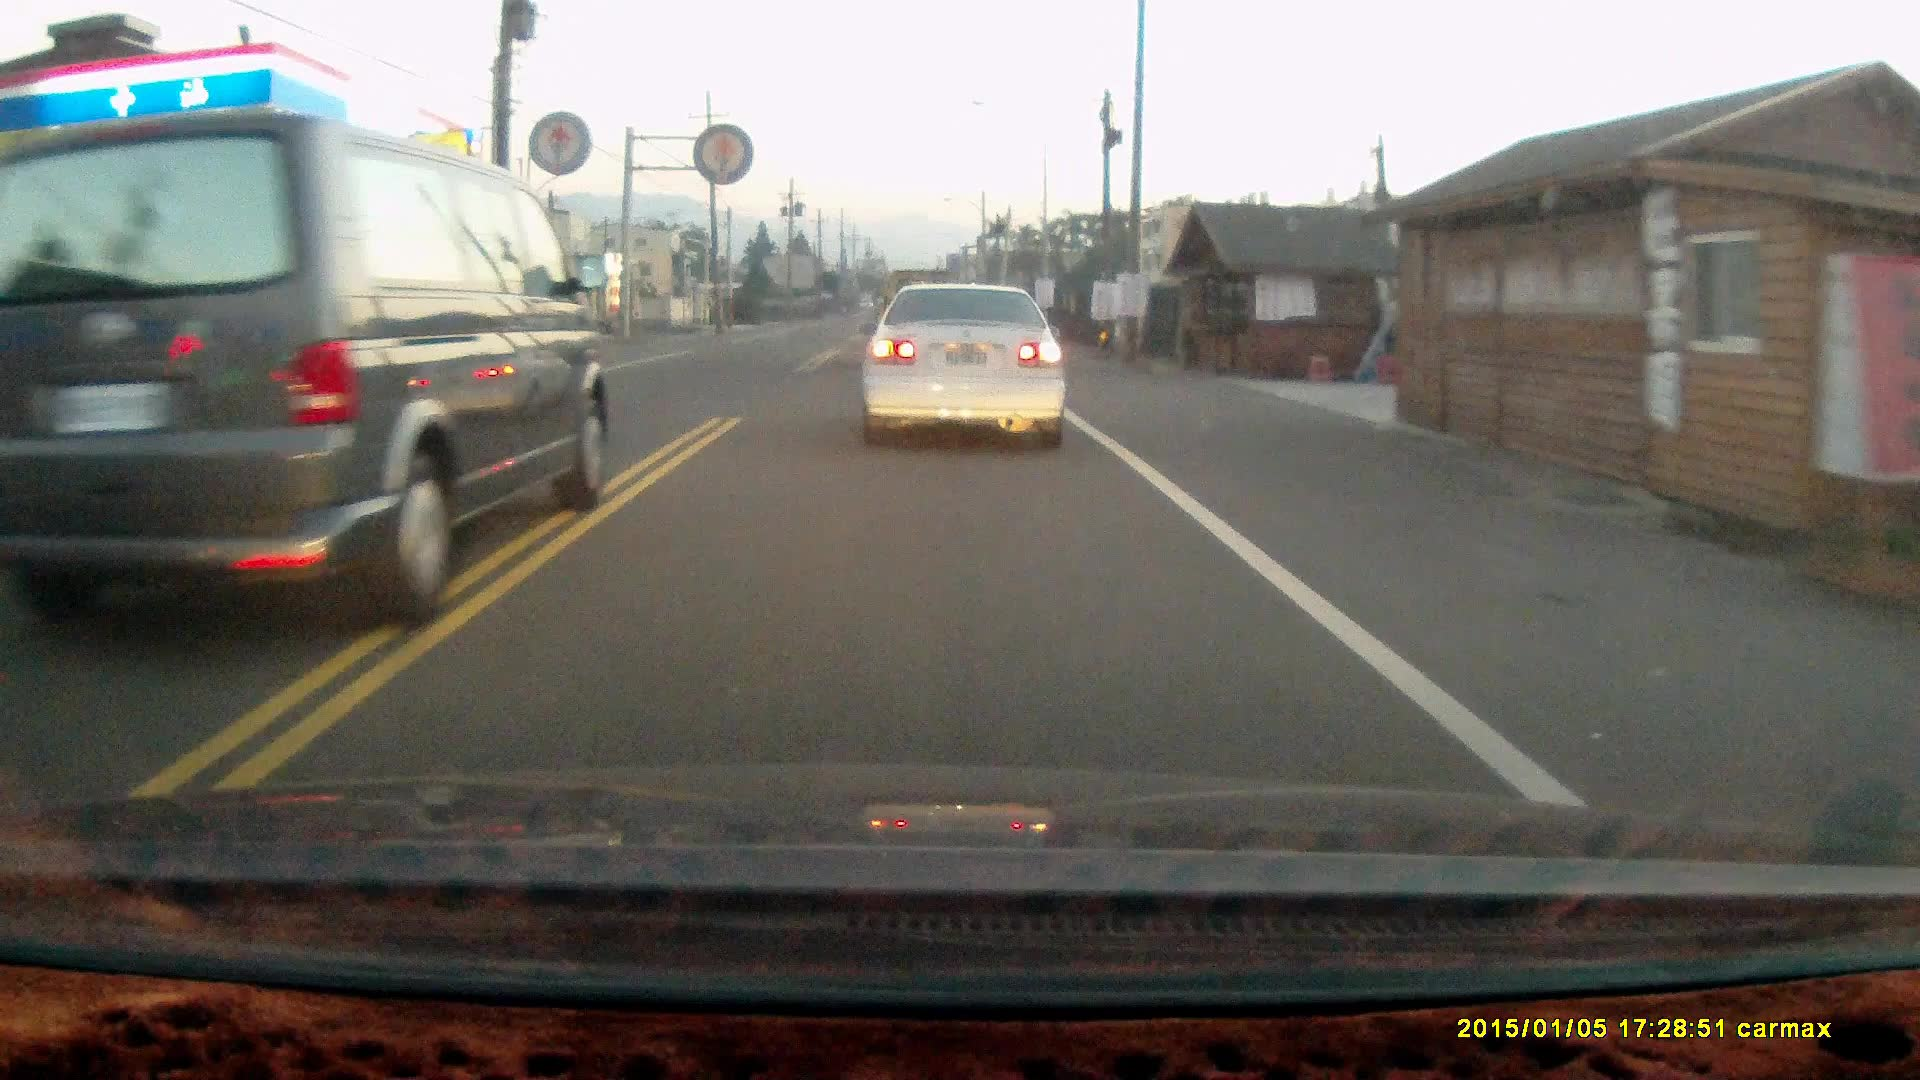vehicle: (3, 120, 605, 626), (862, 280, 1069, 455), (24, 204, 162, 365)
